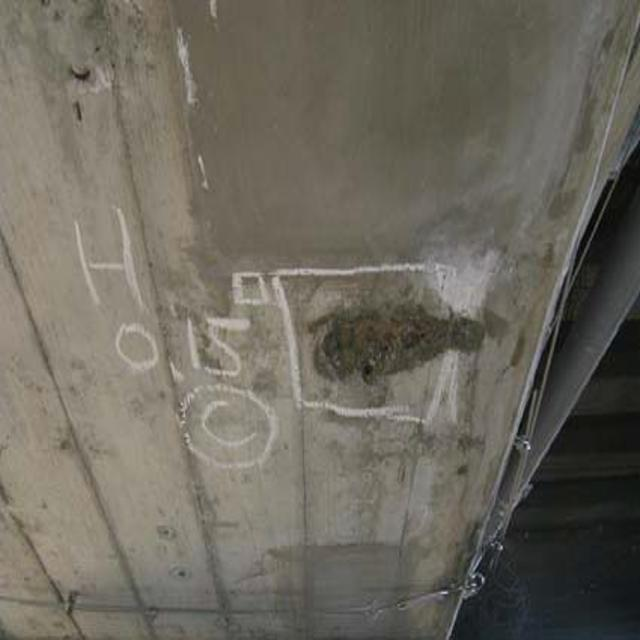spalling: (297, 271, 486, 433)
